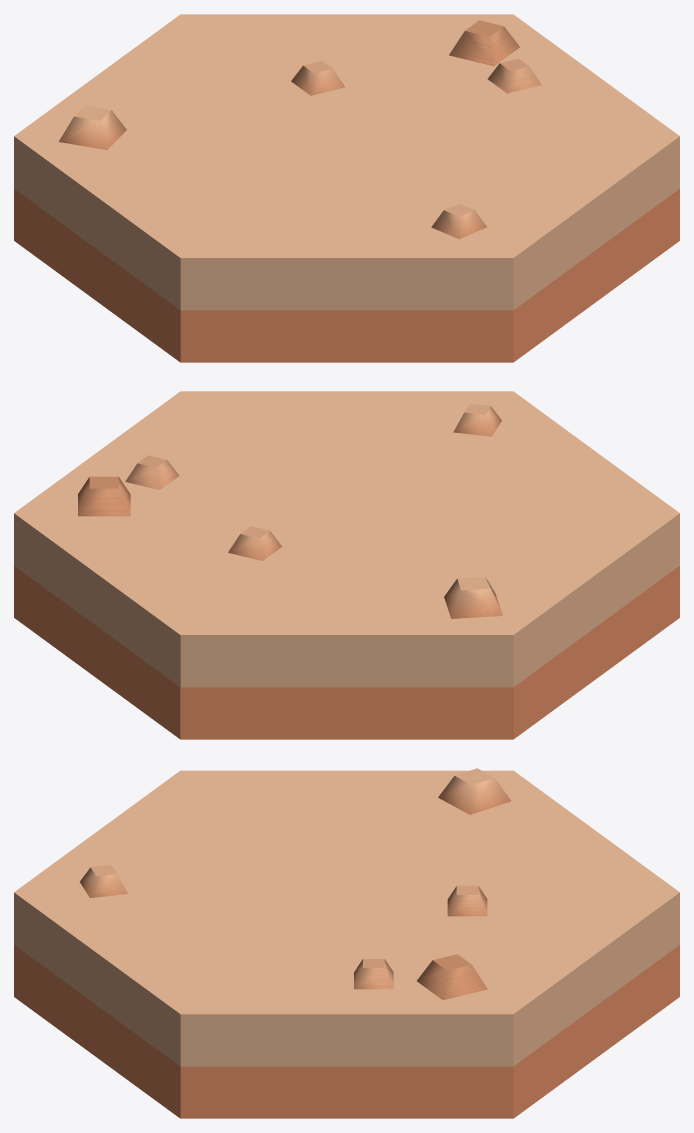
Rendered from sand-rocks.glb.
3 views of the same model, one above another, from view 1: azimuth 30°, elevation 25°; view 2: azimuth 150°, elevation 25°; view 3: azimuth 270°, elevation 25° (orthographic).
Visible parts, largest first — view 1: sand-rocks; view 2: sand-rocks; view 3: sand-rocks.
Part boxes in pixels (x1,y1,x2,y2): sand-rocks: (14,14,679,362); sand-rocks: (14,391,679,739); sand-rocks: (14,768,679,1118).
Bounding box in the file's own units: 1 × 0.2435 × 1.15.
1 material, 1 textured.
